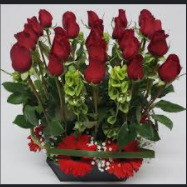RedRose: (161, 58, 186, 86), (8, 43, 29, 73), (82, 41, 110, 62), (82, 61, 107, 84), (137, 10, 166, 28), (118, 33, 140, 56), (149, 32, 170, 53), (23, 18, 45, 38), (43, 53, 62, 76), (12, 28, 32, 48), (63, 11, 79, 36), (85, 8, 105, 26), (125, 61, 145, 78), (37, 7, 53, 28), (85, 27, 105, 43), (50, 39, 67, 57), (112, 11, 127, 31)
